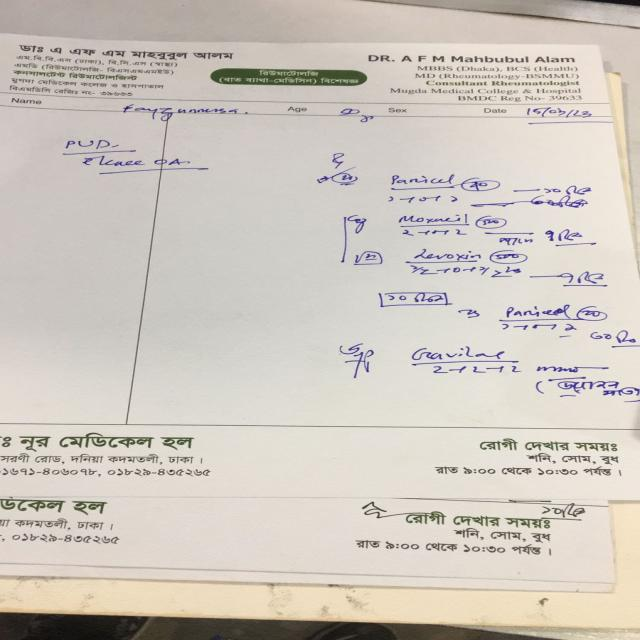Gavilac: (400, 341, 507, 363)
Levoxin: (407, 245, 487, 266)
Moxacil: (393, 212, 476, 229)
Paricel: (494, 299, 584, 322), (379, 169, 468, 192)
